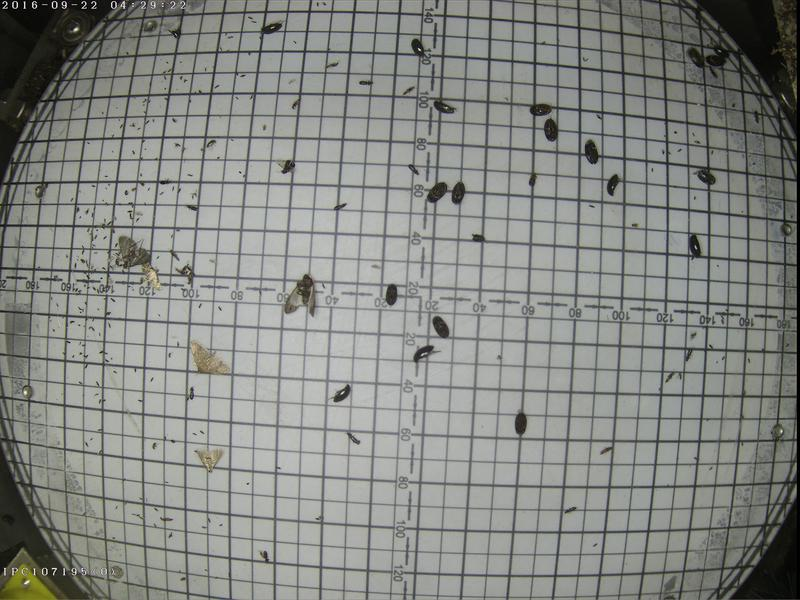Rice Leaf Roller: (137, 260, 163, 291)
